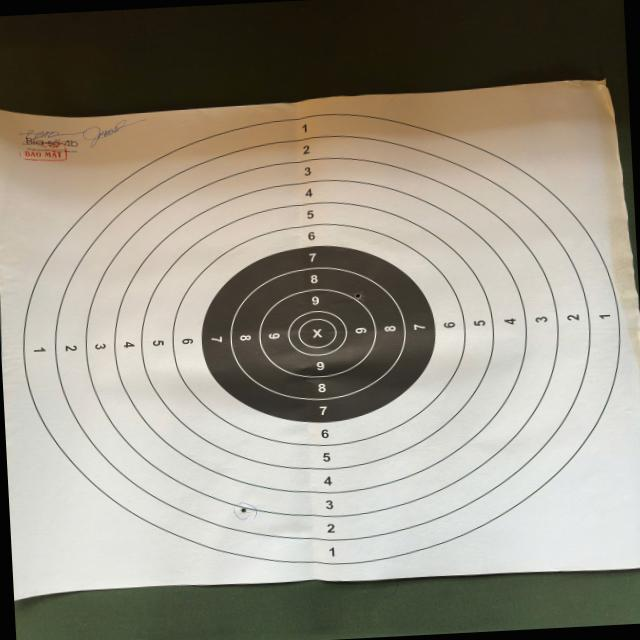bullet: (354, 293, 363, 300), (242, 507, 248, 514)
target: (0, 75, 640, 601)
